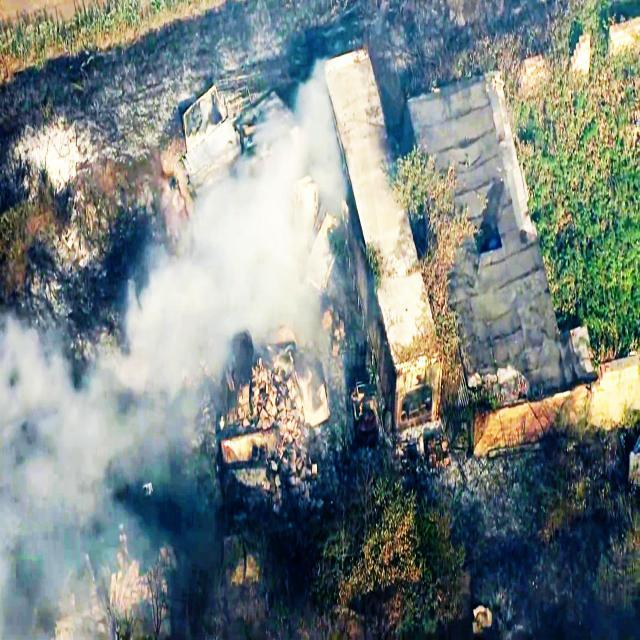Smoke: (193, 162, 292, 294), (141, 276, 206, 416)
